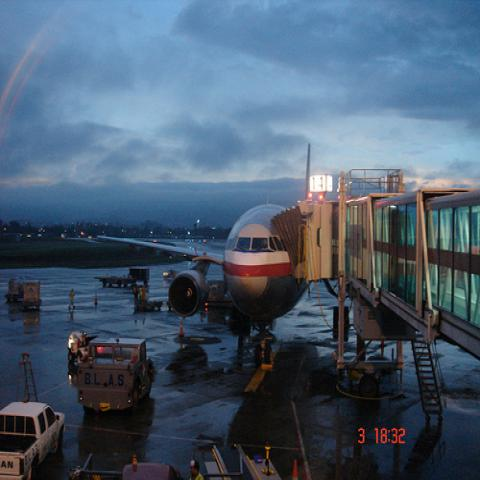truck: (66, 334, 156, 424), (0, 400, 65, 480)
